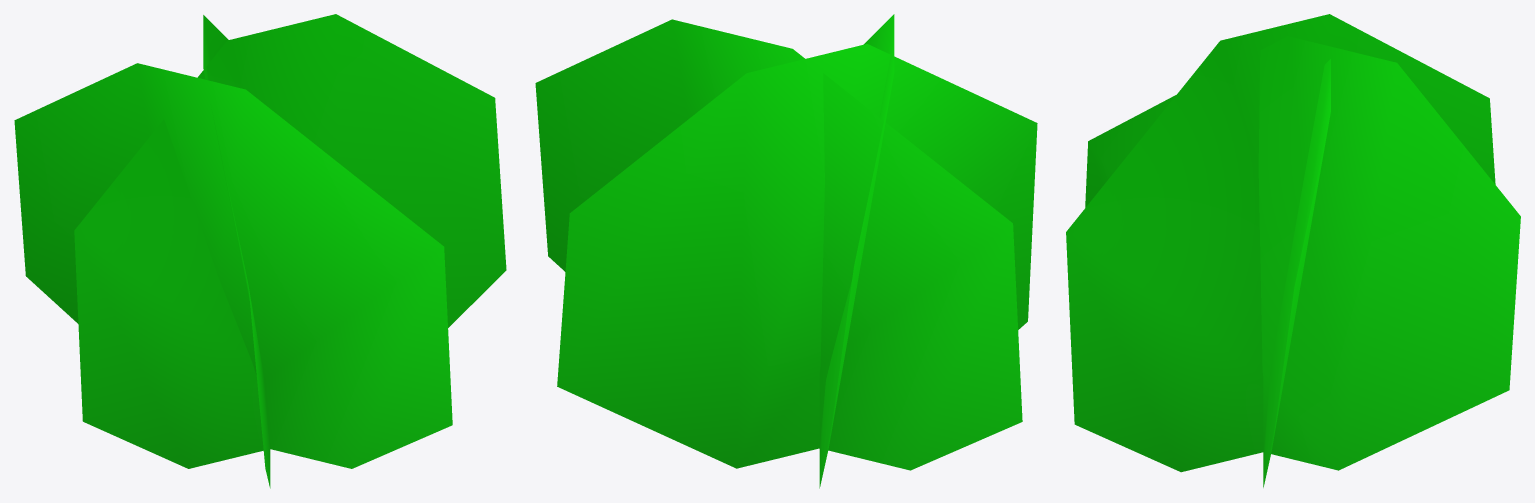
Rendered from clutter_dwarf.glb.
3 views of the same model, side by side, from view 1: azimuth 30°, elevation 25°; view 2: azimuth 150°, elevation 25°; view 3: azimuth 270°, elevation 25° (orthographic). The views are drawn at different scales.
Parts seen in each view (by area): view 1: clutter_dwarf; view 2: clutter_dwarf; view 3: clutter_dwarf.
Boxes of the visible parts, x1,y1,x2,y2 form: clutter_dwarf: [14, 14, 506, 488]; clutter_dwarf: [535, 14, 1037, 488]; clutter_dwarf: [1066, 14, 1520, 487].
Size of the model in its own units: 0.2969 by 0.2578 by 0.2731.
